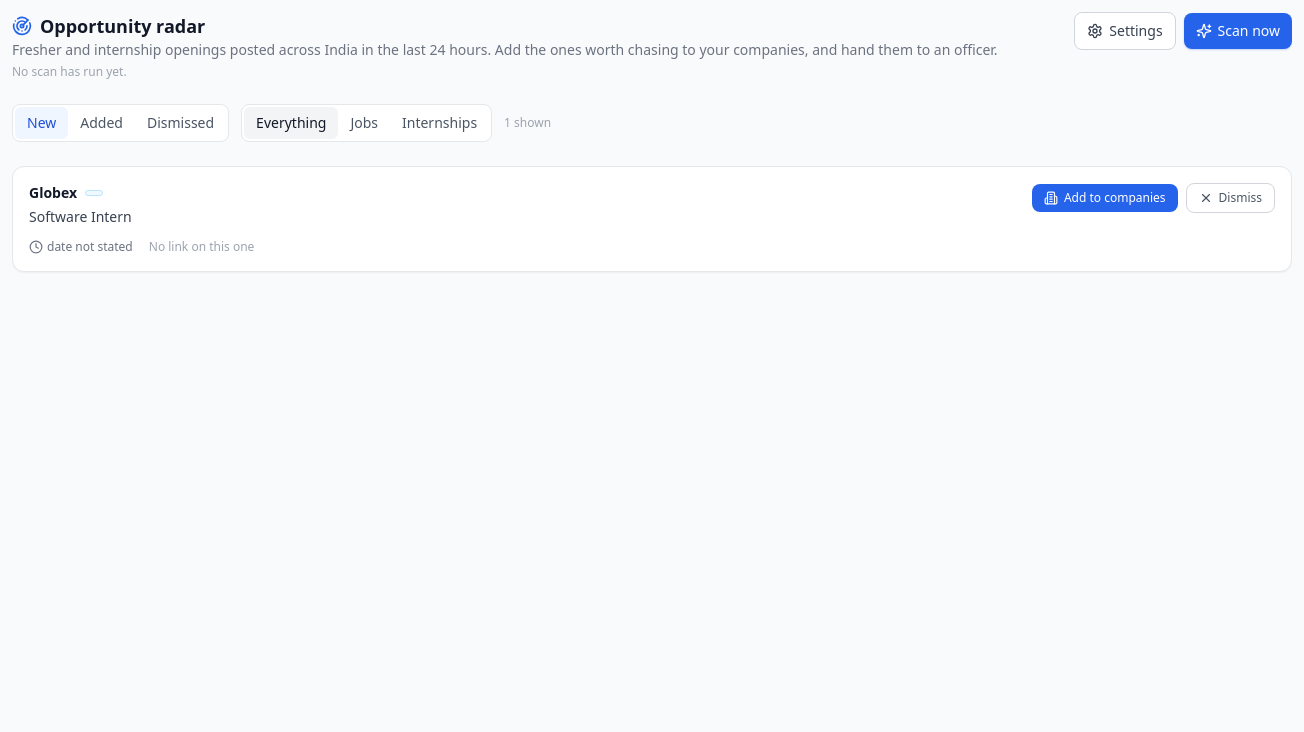
Scenario: running a scan › reports what a scan found
Expected: the heading "Globex" is shown, top-left (29, 183), bottom-right (77, 203)
Click the button "Scan now": click(1238, 31) top-left (1184, 13), bottom-right (1292, 49)
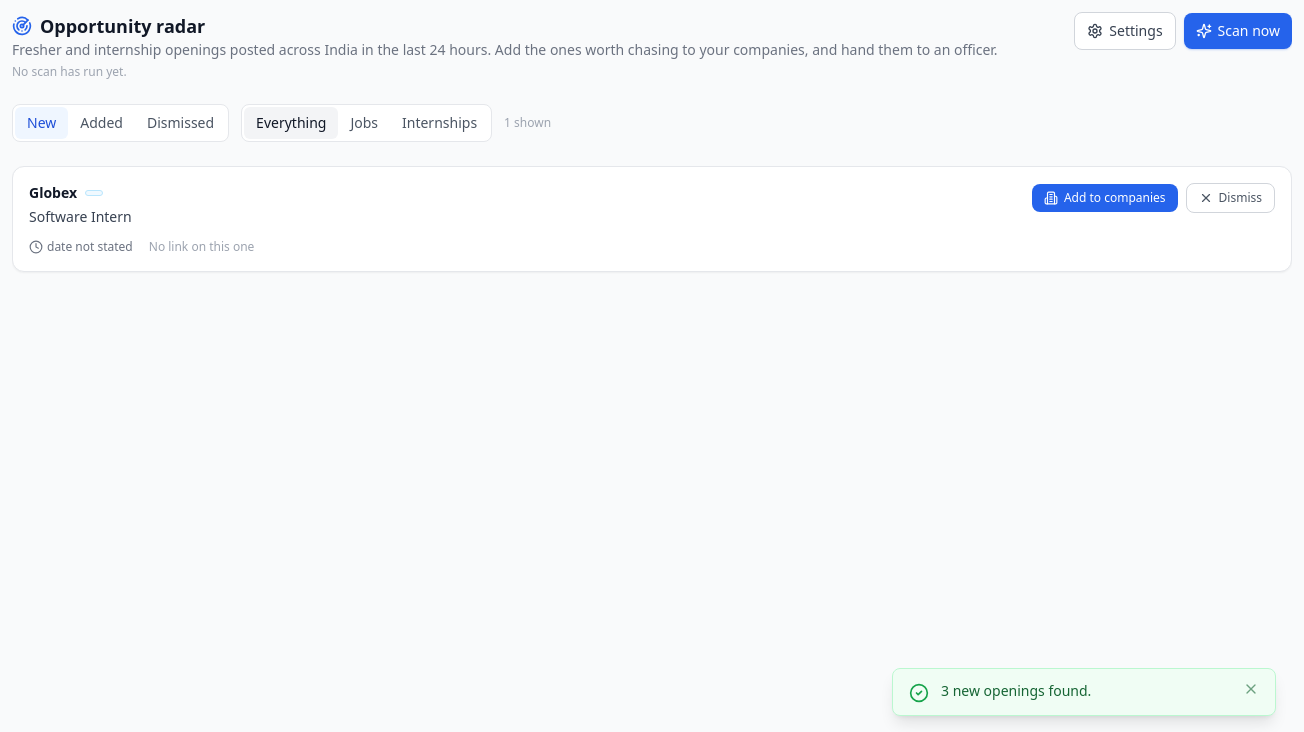
Expected: the text "3 new openings found." is shown, top-left (941, 681), bottom-right (1091, 700)
